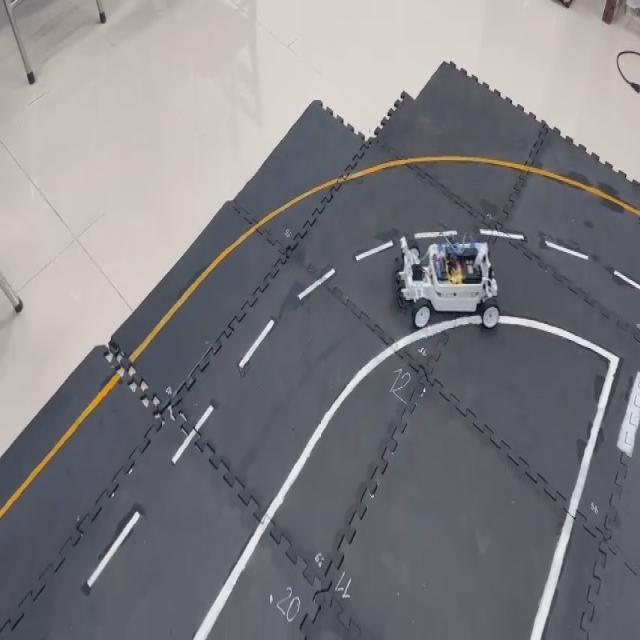SiCo-CAR: (392, 227, 501, 331)
